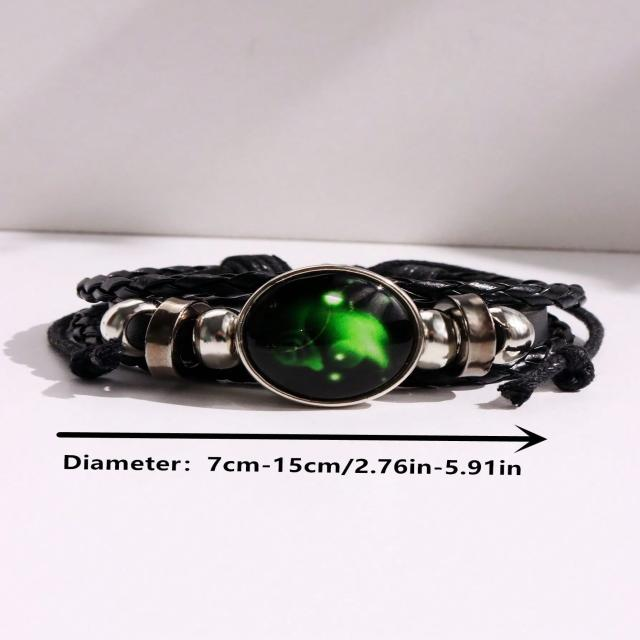bracelet: (5, 207, 640, 478)
